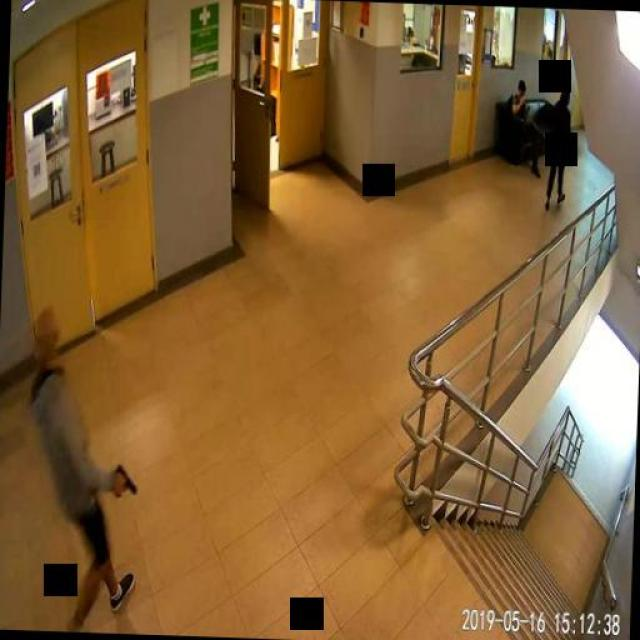gun: (112, 461, 136, 495)
